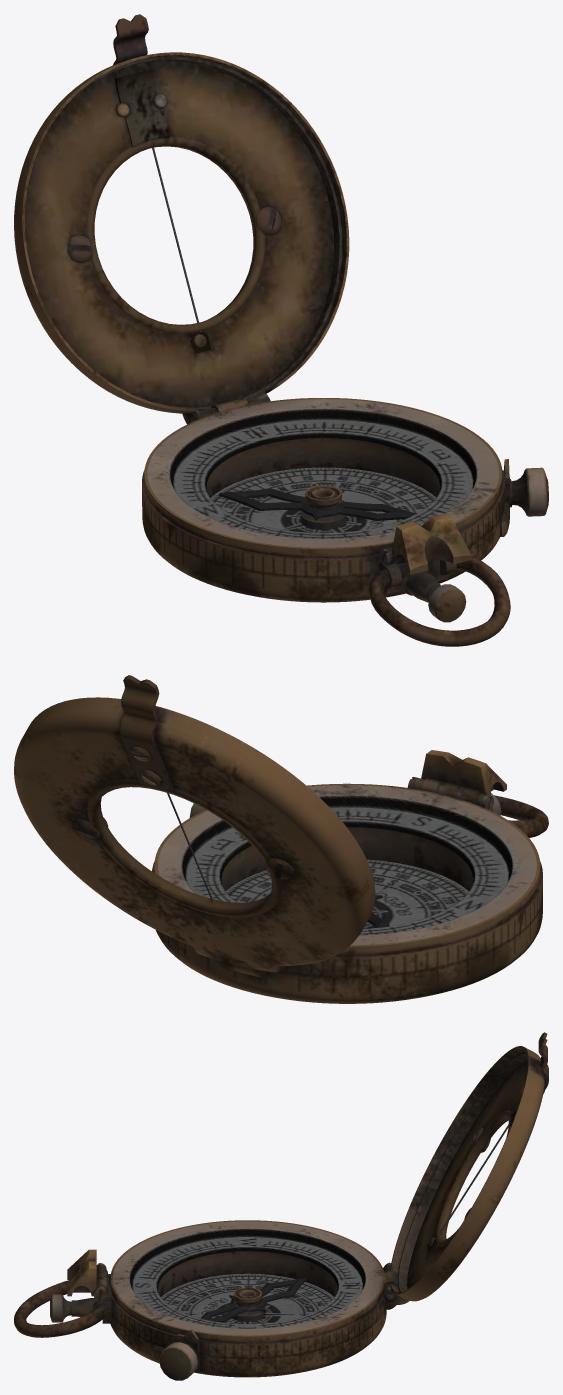
The model's file is seadogs_compass.glb.
3 views of the same model, one above another, from view 1: azimuth 30°, elevation 25°; view 2: azimuth 150°, elevation 25°; view 3: azimuth 270°, elevation 25° (orthographic). The views are drawn at different scales.
Parts seen in each view (by area): view 1: seadogs_compass; view 2: seadogs_compass; view 3: seadogs_compass.
Part boxes in pixels (left/top/right/bottom): seadogs_compass: left=14, top=14, right=548, bottom=646; seadogs_compass: left=14, top=675, right=548, bottom=1003; seadogs_compass: left=14, top=1032, right=548, bottom=1380.
Size of the model in its own units: 0.0813 by 0.0866 by 0.1441.
Materials: 1 (1 with a texture image).
